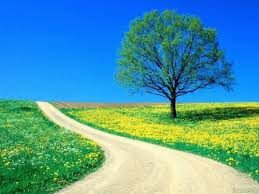field: (2, 101, 259, 193)
sky: (3, 4, 259, 102)
tree: (125, 16, 229, 118)
